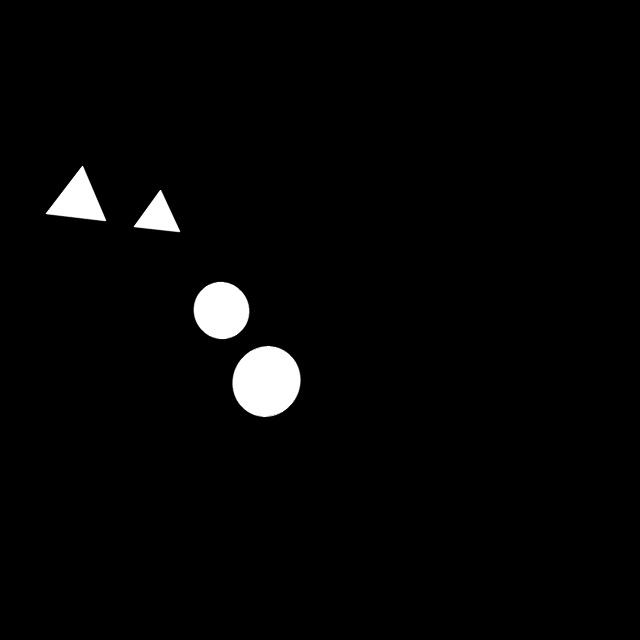Circle: (223, 338, 312, 429), (180, 272, 261, 350)
Triangle: (39, 159, 114, 238), (127, 186, 195, 242)
